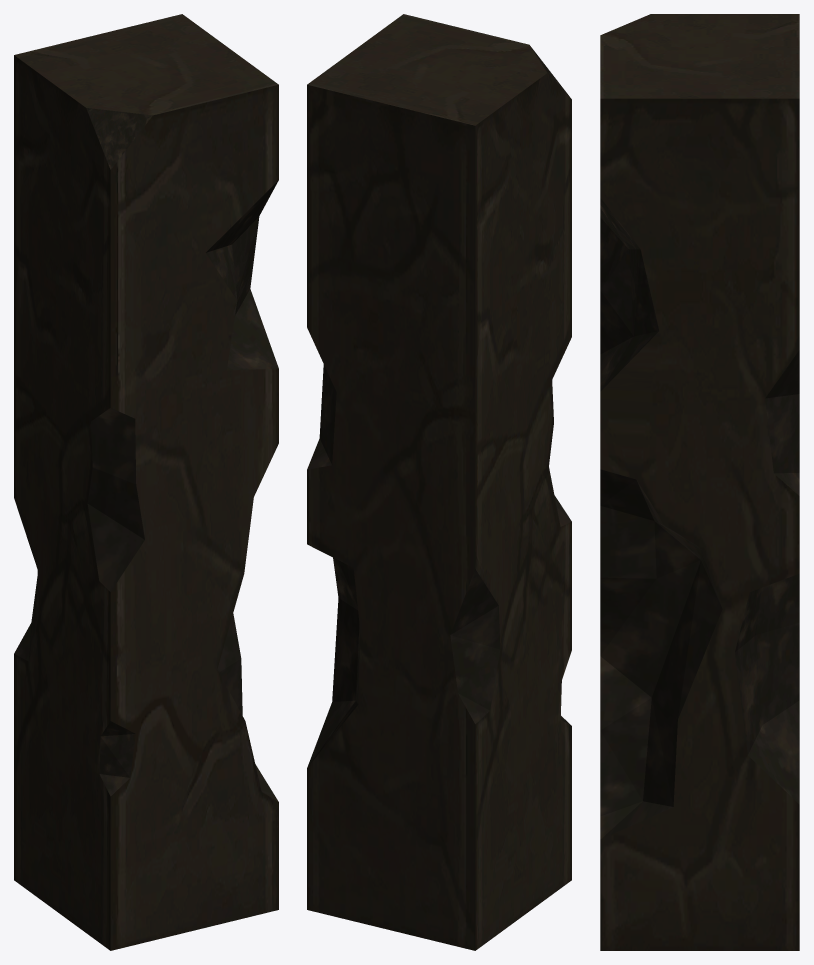
The model's file is fortress_wall_convex_02_b.fbx.
3 views of the same model, side by side, from view 1: azimuth 30°, elevation 25°; view 2: azimuth 150°, elevation 25°; view 3: azimuth 270°, elevation 25° (orthographic). The views are drawn at different scales.
Parts seen in each view (by area): view 1: fortress_wall_convex_02_b-0; view 2: fortress_wall_convex_02_b-0; view 3: fortress_wall_convex_02_b-0.
Boxes of the visible parts, x1,y1,x2,y2 form: fortress_wall_convex_02_b-0: (14,14,278,950); fortress_wall_convex_02_b-0: (307,14,571,950); fortress_wall_convex_02_b-0: (600,14,799,950).
Size of the model in its own units: 1.17 by 5.5 by 1.17.
